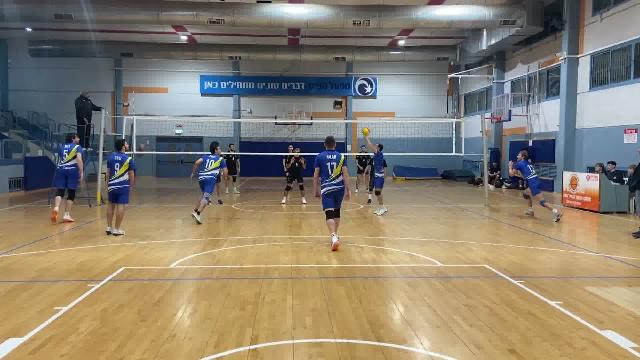ball: (361, 125, 371, 138)
